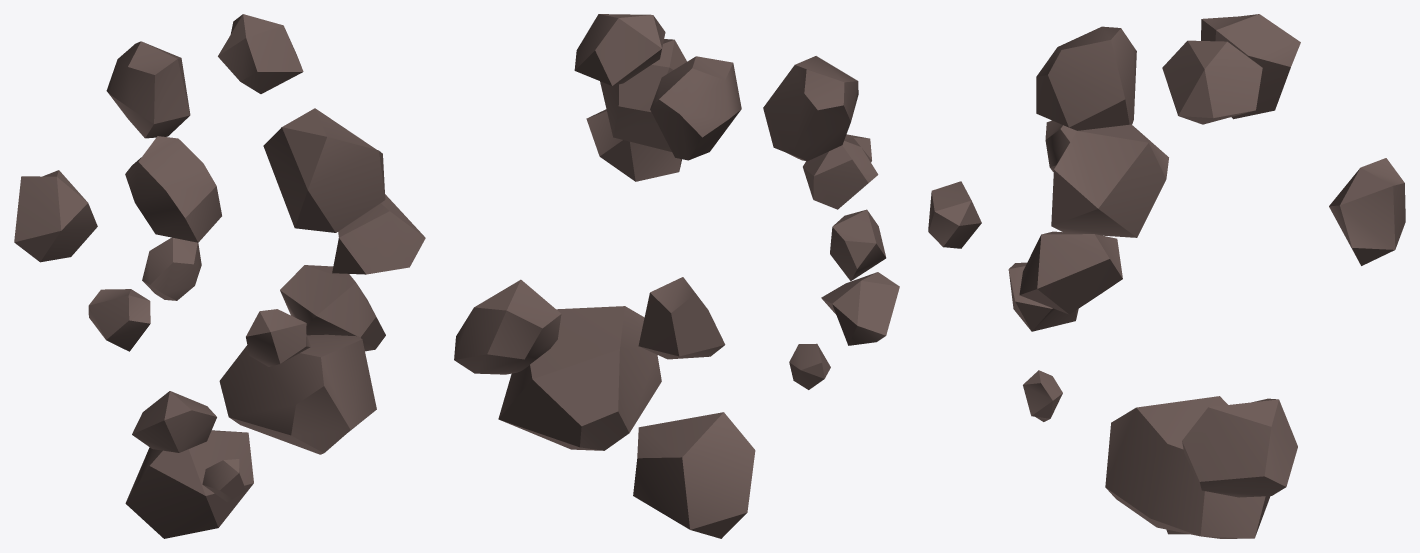
File: p_mesh_hvs_gold_rocks02.fbx
3 views of the same model, side by side, from view 1: azimuth 30°, elevation 25°; view 2: azimuth 150°, elevation 25°; view 3: azimuth 270°, elevation 25° (orthographic). The views are drawn at different scales.
Visible parts, largest first — view 1: _gold_rocks02; view 2: _gold_rocks02; view 3: _gold_rocks02.
Boxes of the visible parts, <box> form: _gold_rocks02: <box>14,14,425,538</box>; _gold_rocks02: <box>454,14,899,538</box>; _gold_rocks02: <box>928,14,1405,538</box>.
Bounding box in the file's own units: 6.19 × 8.49 × 6.87.
